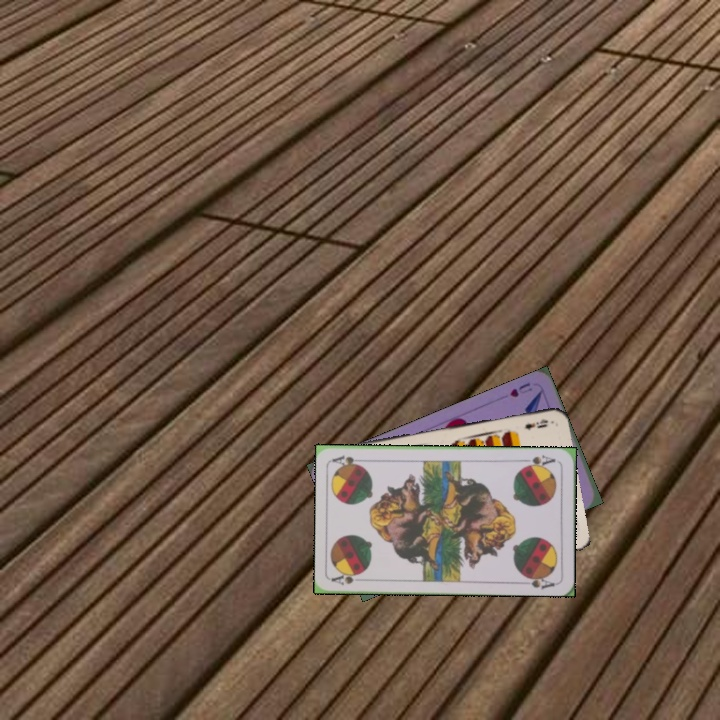E9: (521, 415, 551, 433)
HU: (506, 379, 535, 400)
SA: (329, 569, 370, 588), (519, 451, 558, 470)
